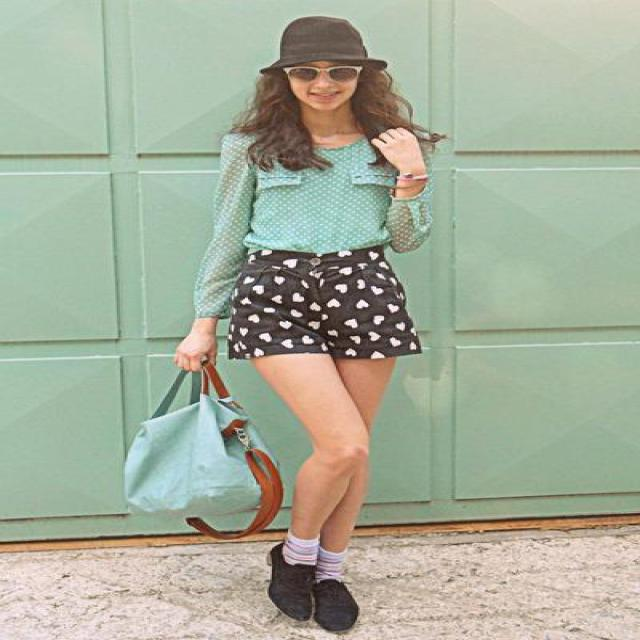bag: (114, 371, 272, 511)
hat: (272, 17, 387, 80)
shirt: (190, 132, 428, 319)
shoe: (266, 550, 358, 635)
shorts: (213, 244, 421, 367)
